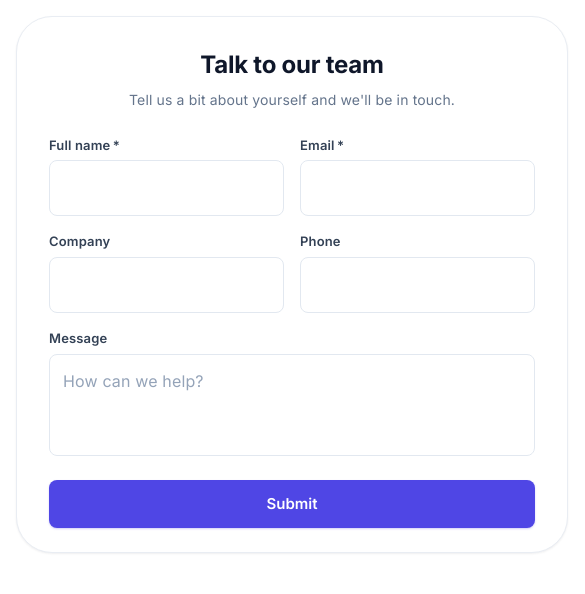
Test: Public LeadFormSection › shows inline validation errors and does not submit when required fields are empty
This screenshot has width=585, height=594.
Click the button "Submit" at (292, 504), box [49,480,535,528]
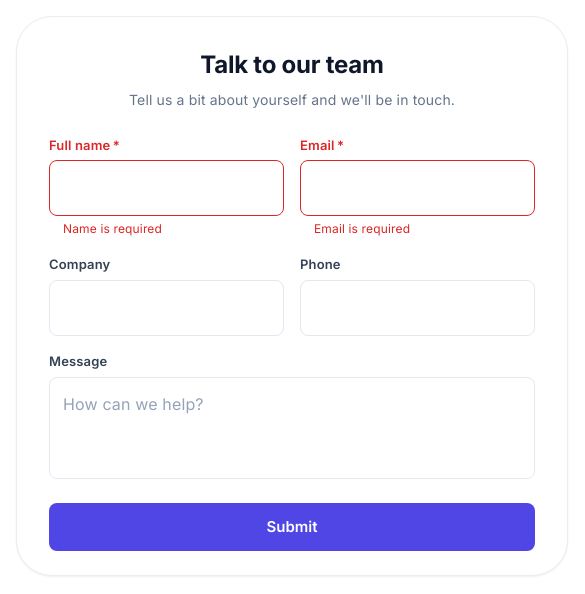
Result: the text "Name is required" is shown at [63,222,162,236]
Result: the text "Email is required" is shown at [314,222,410,236]
